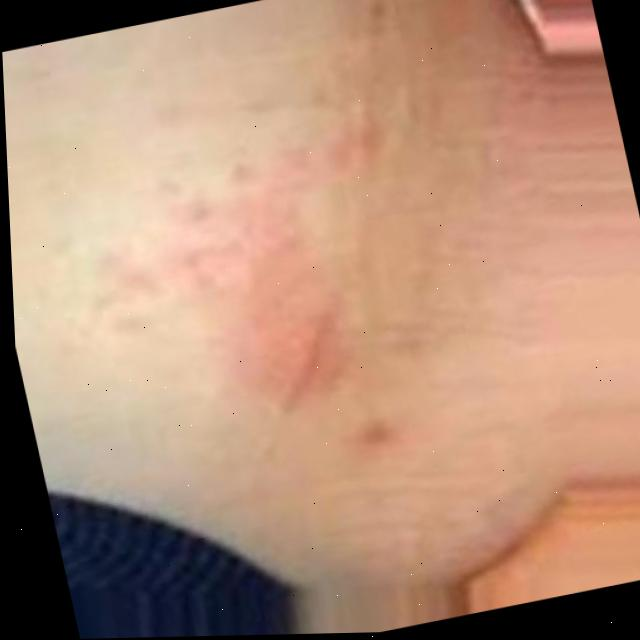Shingles: (172, 167, 373, 397)
